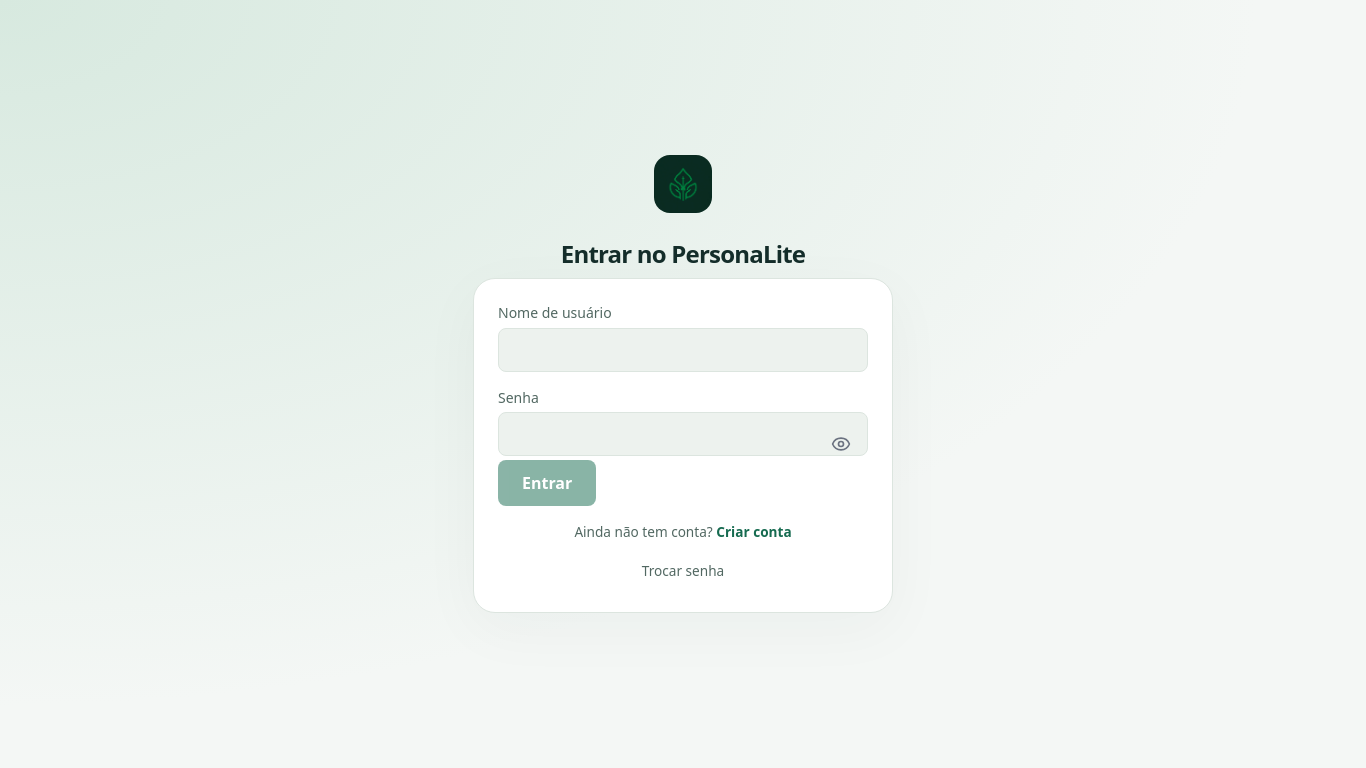
Test case: login navega sem documento novo e carrega usuário uma vez, inclusive em StrictMode
The image size is (1366, 768).
Type "pessoa_teste" into the field labelled "Nome de usuário" at coordinates (683, 350), box [498,328,868,372]
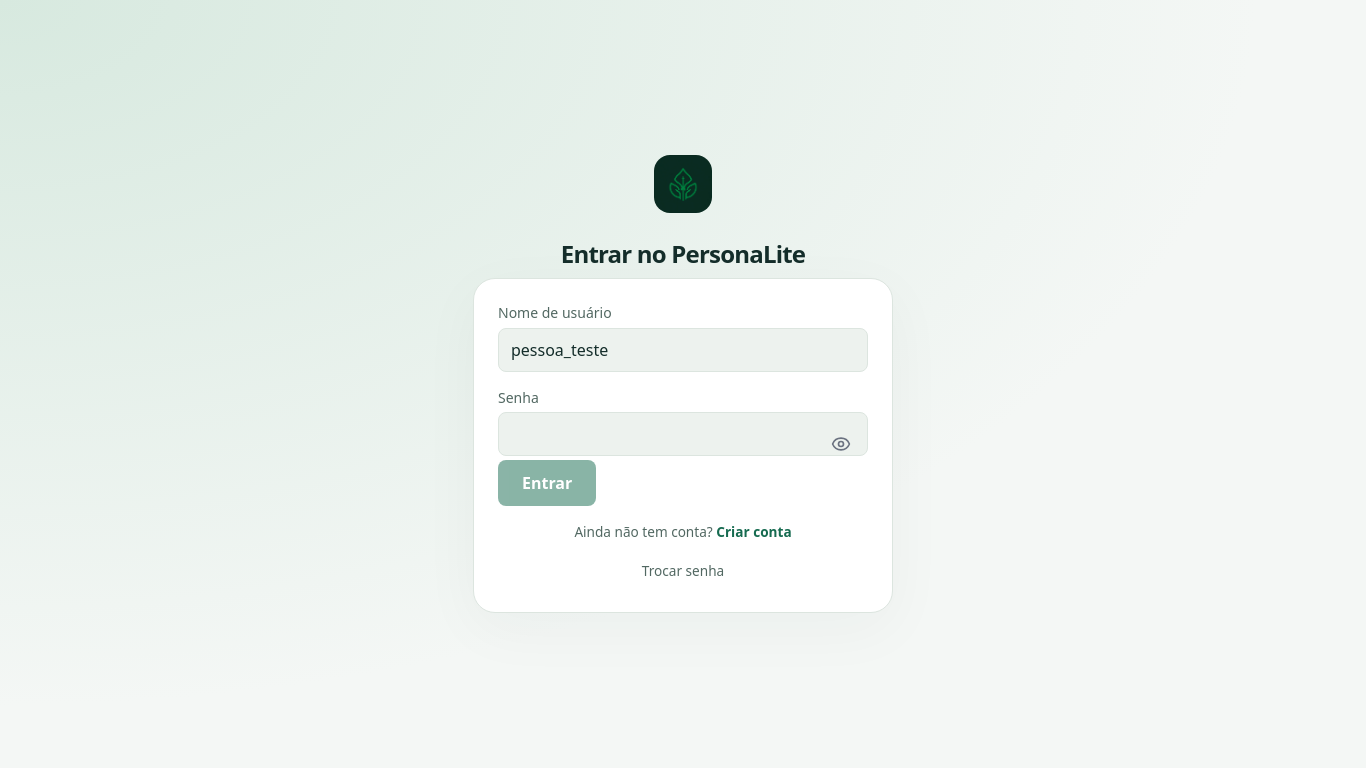
Type "senha-ficticia" into the password field labelled "Senha" at coordinates (683, 434), box [498,412,868,456]
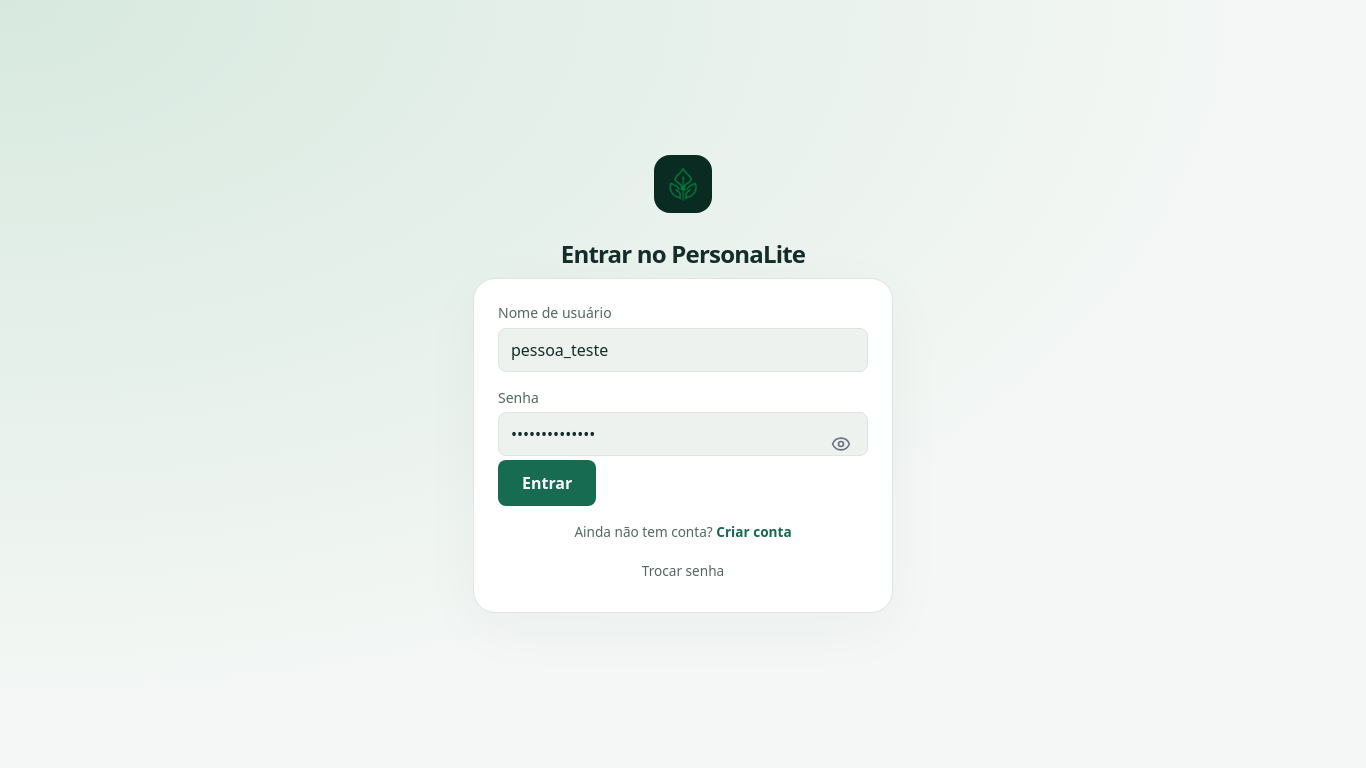
Click the button "Entrar" at coordinates (547, 483), box [498,460,596,506]
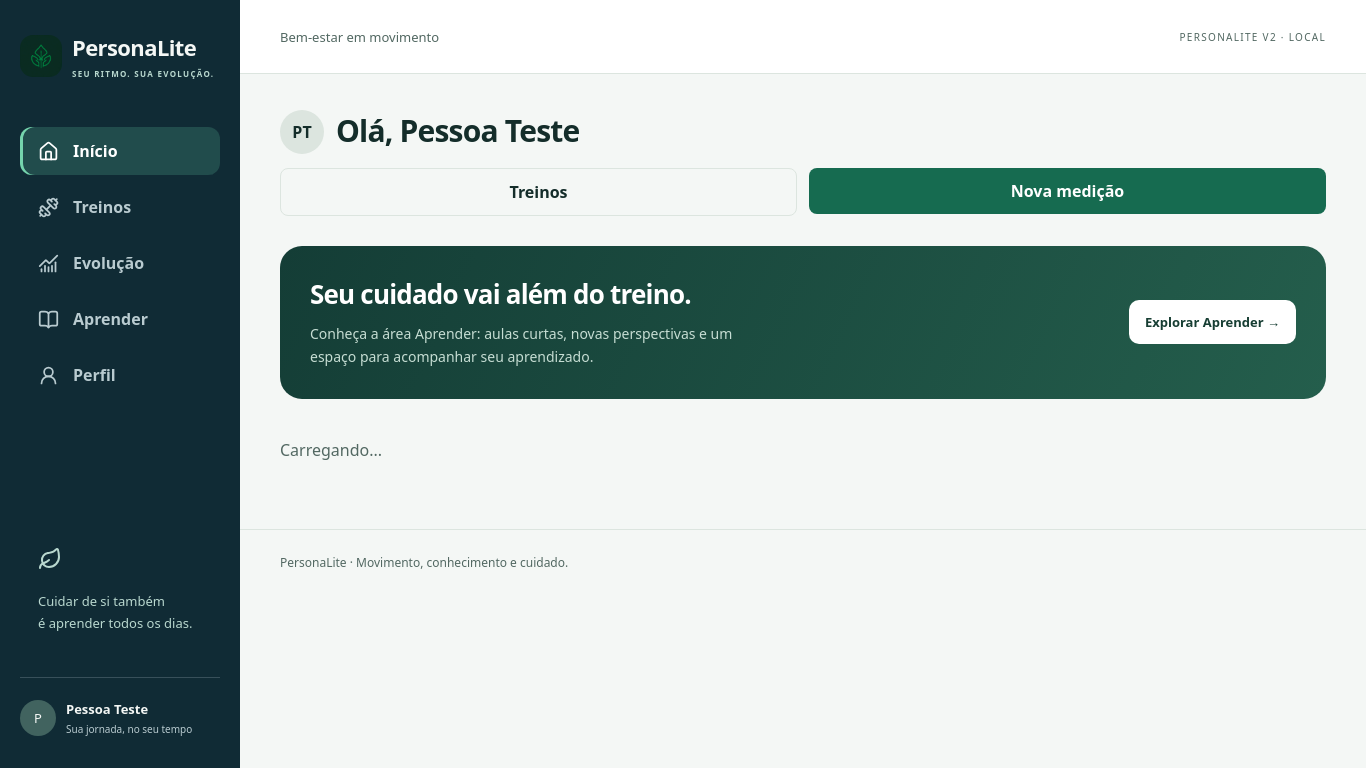
expect the heading "Olá, Pessoa Teste" is shown: met, box [336,110,580,151]
Click the link "Treinos" below "Olá," at coordinates (538, 192), box [280,168,797,216]
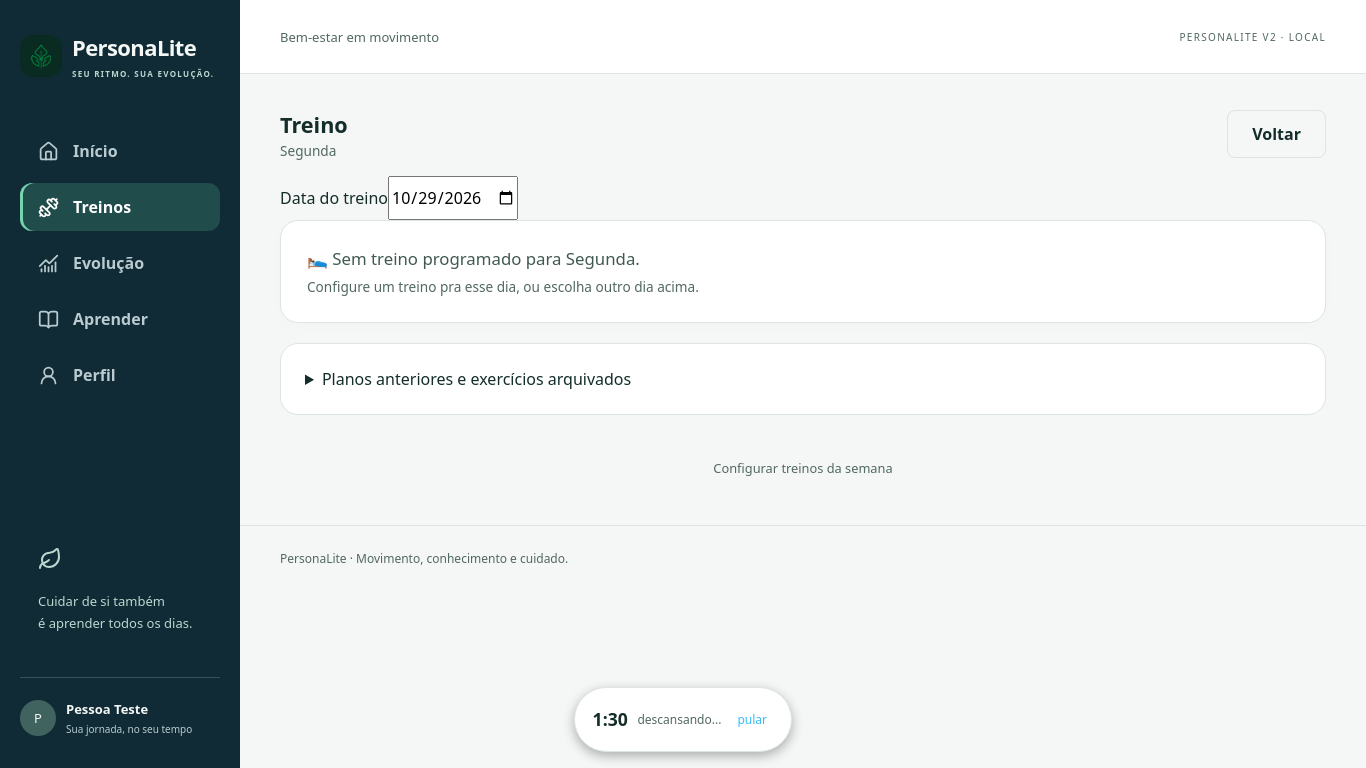
expect the heading "Treino" is shown: met, box [280,110,348,139]
